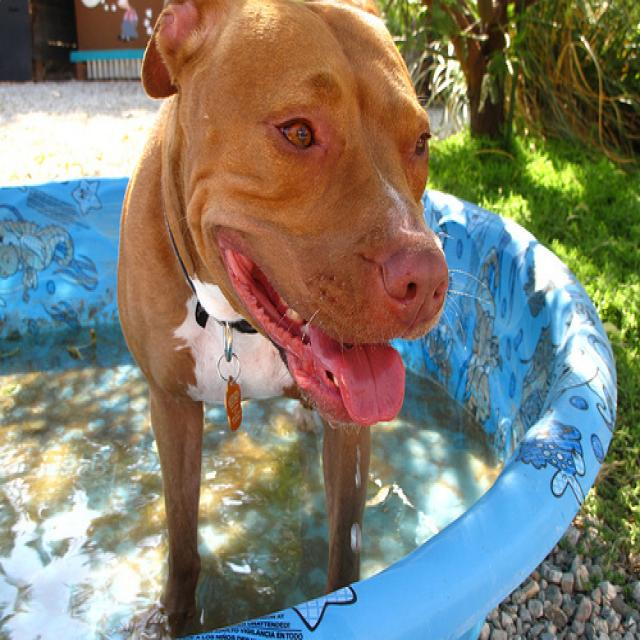dog-american_pit_bull_terrier: (109, 2, 497, 637)
